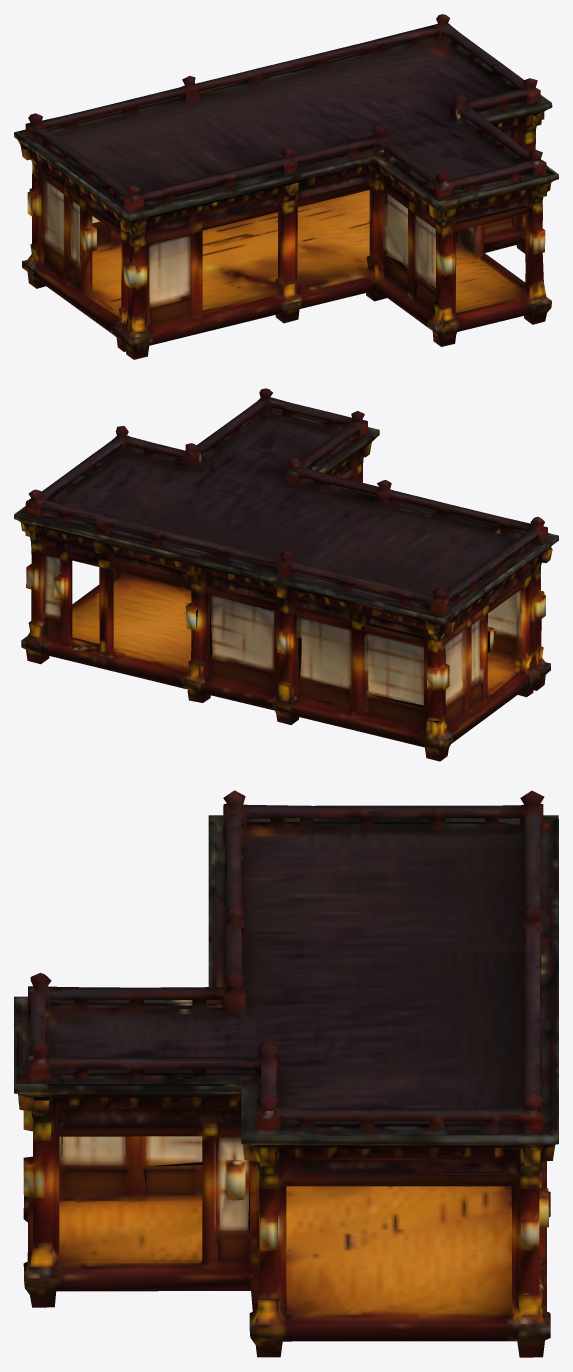
The model's file is HallWay3Way.fbx.
The picture shows the model from 3 angles, top to bottom: view 1: azimuth 30°, elevation 25°; view 2: azimuth 150°, elevation 25°; view 3: azimuth 270°, elevation 25°; orthographic projection. The views are drawn at different scales.
Parts seen in each view (by area): view 1: node_0.001; view 2: node_0.001; view 3: node_0.001.
Boxes of the visible parts, box(x1,y1,x2,y2) form: node_0.001: box(14, 14, 558, 359); node_0.001: box(14, 388, 558, 761); node_0.001: box(14, 790, 558, 1357).
Size of the model in its own units: 95.23 by 36.11 by 68.19.
1 material, 1 textured.
